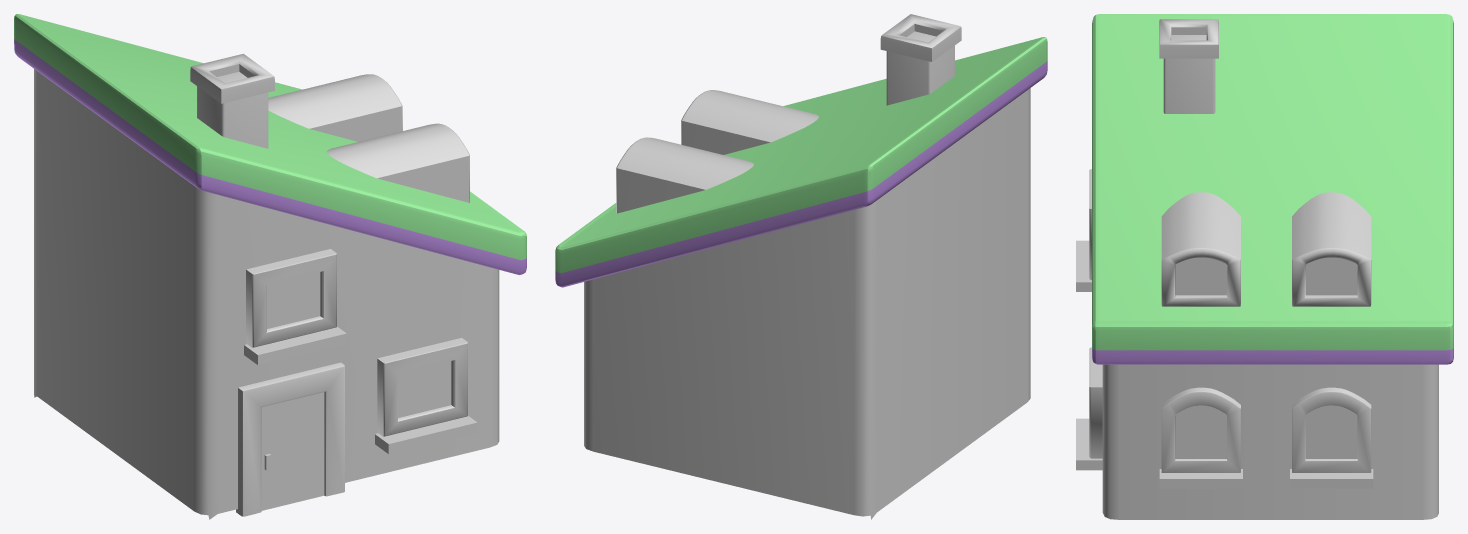
Rendered from Maison.FBX.
3 views of the same model, side by side, from view 1: azimuth 30°, elevation 25°; view 2: azimuth 150°, elevation 25°; view 3: azimuth 270°, elevation 25° (orthographic). The views are drawn at different scales.
Visible parts, largest first — view 1: Batiment001, toitPentu, PorteCadre001, FenetreCadre006, Porte001, FenetreCadre007, FenetreCadreCarré001, FenetreCadreCarré002, Cheminee, ChemineeRebord, fenetre008, fenetre009 (+2 smaller); view 2: Batiment001, toitPentu, FenetreCadre007, FenetreCadre006, Cheminee, ChemineeRebord; view 3: toitPentu, Batiment001, FenetreCadre006, FenetreCadre007, FenetreCadre009, FenetreCadre008, Cheminee, fenetre014, fenetre013, ChemineeRebord, fenetre012, fenetre011 (+5 smaller).
Boxes of the visible parts, x1=… form: Batiment001: x1=34, y1=69, x2=499, y2=519; toitPentu: x1=14, y1=14, x2=526, y2=274; PorteCadre001: x1=236, y1=362, x2=344, y2=516; FenetreCadre006: x1=326, y1=123, x2=469, y2=202; Porte001: x1=261, y1=392, x2=324, y2=510; FenetreCadre007: x1=268, y1=74, x2=402, y2=141; FenetreCadreCarré001: x1=246, y1=249, x2=336, y2=347; FenetreCadreCarré002: x1=377, y1=338, x2=467, y2=436; Cheminee: x1=197, y1=71, x2=268, y2=148; ChemineeRebord: x1=190, y1=53, x2=274, y2=103; fenetre008: x1=398, y1=361, x2=451, y2=417; fenetre009: x1=267, y1=272, x2=320, y2=328; Batiment001: x1=584, y1=88, x2=1030, y2=519; toitPentu: x1=555, y1=37, x2=1047, y2=287; FenetreCadre007: x1=616, y1=137, x2=753, y2=213; FenetreCadre006: x1=681, y1=90, x2=818, y2=154; Cheminee: x1=886, y1=31, x2=954, y2=105; ChemineeRebord: x1=880, y1=14, x2=961, y2=61; toitPentu: x1=1092, y1=14, x2=1453, y2=364; Batiment001: x1=1102, y1=364, x2=1438, y2=519; FenetreCadre006: x1=1161, y1=192, x2=1240, y2=306; FenetreCadre007: x1=1292, y1=192, x2=1371, y2=306; FenetreCadre009: x1=1292, y1=387, x2=1371, y2=472; FenetreCadre008: x1=1161, y1=387, x2=1240, y2=472; Cheminee: x1=1163, y1=35, x2=1215, y2=113; fenetre014: x1=1305, y1=405, x2=1357, y2=458; fenetre013: x1=1175, y1=405, x2=1226, y2=458; ChemineeRebord: x1=1159, y1=19, x2=1218, y2=58; fenetre012: x1=1305, y1=257, x2=1357, y2=295; fenetre011: x1=1175, y1=257, x2=1226, y2=295.
Bounding box in the file's own units: 17.31 × 19.96 × 17.7.
